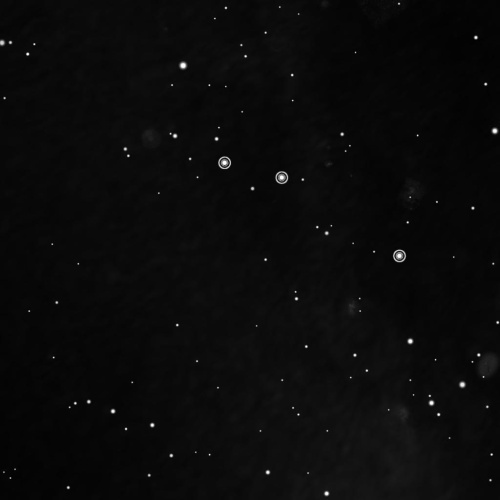vulpecula: (211, 149, 411, 266)
